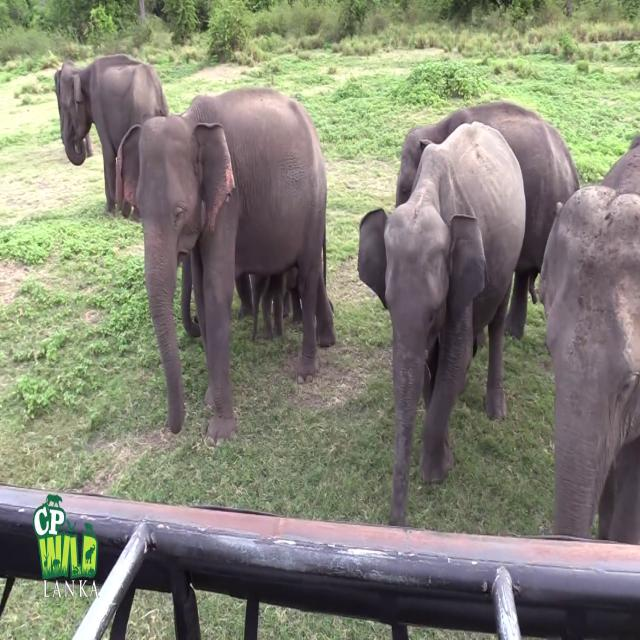Elephant: (115, 85, 335, 447), (357, 119, 527, 526), (395, 99, 580, 342), (54, 52, 168, 216)
